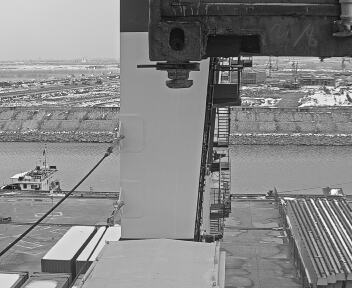twist_lock_1: (148, 54, 204, 94)
